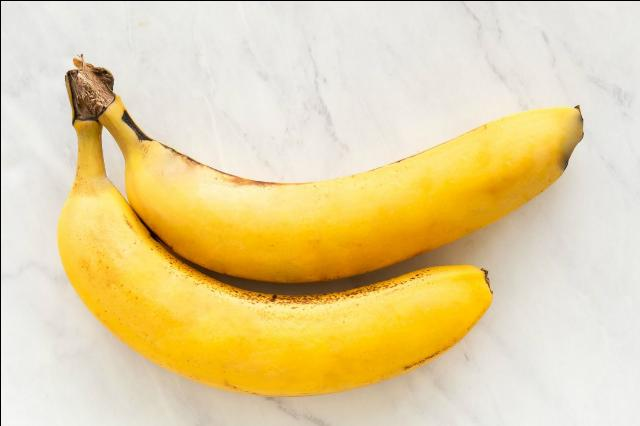Bananas: (56, 58, 584, 396), (103, 101, 583, 280)
